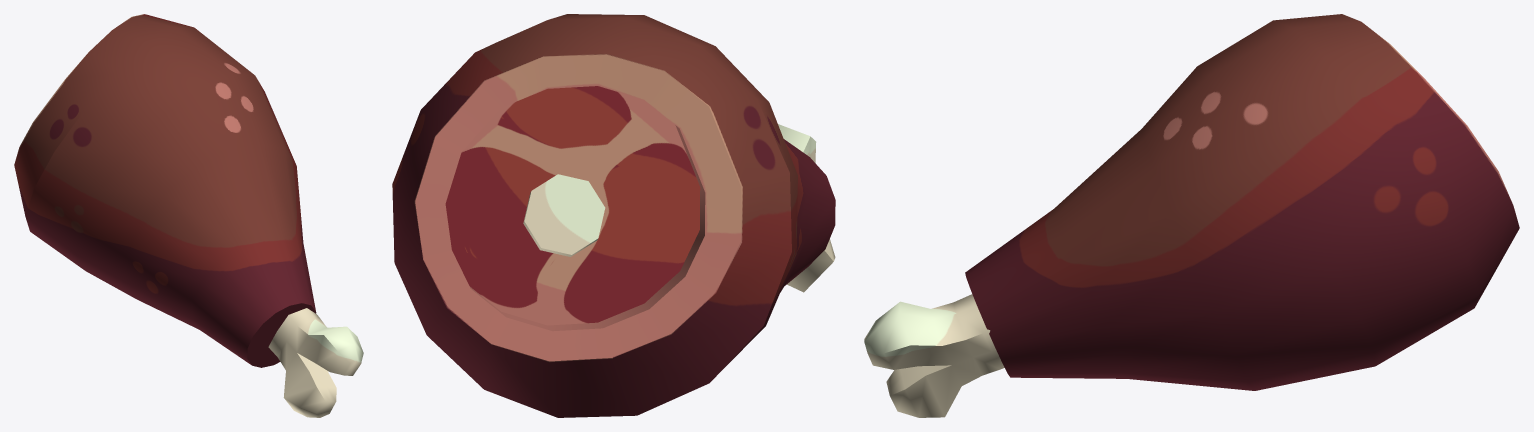
Rendered from meatWhole.fbx.
3 renders of one model, left to right at view 1: azimuth 30°, elevation 25°; view 2: azimuth 150°, elevation 25°; view 3: azimuth 270°, elevation 25°, orthographic. The views are drawn at different scales.
Parts seen in each view (by area): view 1: meatWhole, meatWhole bone; view 2: meatWhole, meatWhole bone; view 3: meatWhole, meatWhole bone.
Boxes of the visible parts, x1,y1,x2,y2 form: meatWhole: [14, 14, 316, 367]; meatWhole bone: [268, 308, 363, 417]; meatWhole: [392, 14, 835, 417]; meatWhole bone: [523, 124, 835, 292]; meatWhole: [965, 14, 1519, 390]; meatWhole bone: [864, 294, 1004, 417].
Size of the model in its own units: 83.8 by 93.35 by 150.
Materials: 2 (2 with a texture image).
